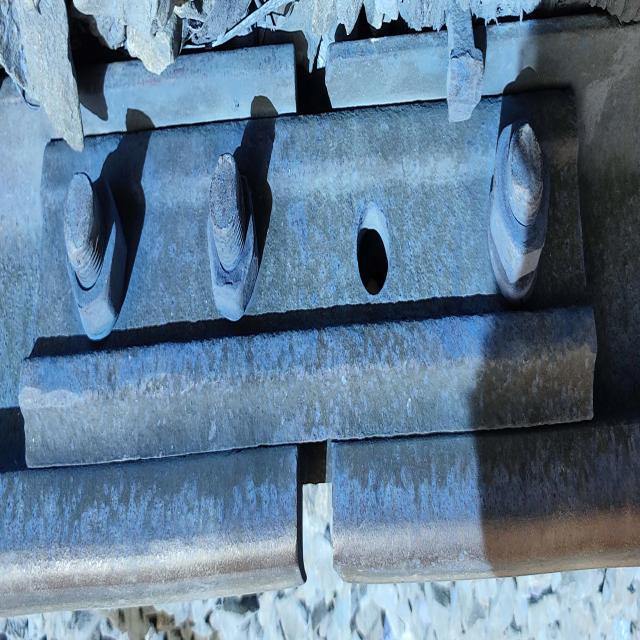railway_join_bar_defects_high: (280, 38, 352, 579)
